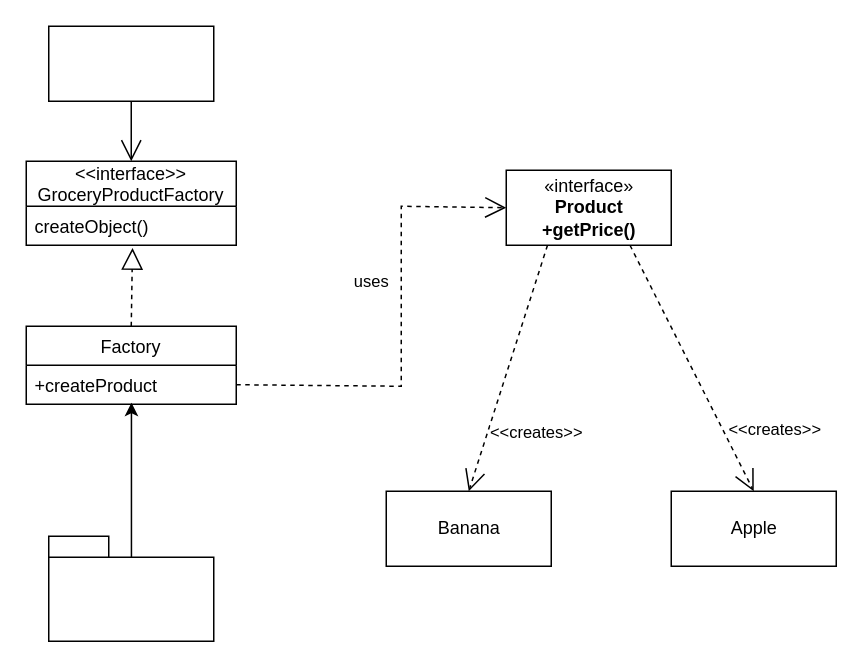
Some shapes in this 863 by 668 pixel diagram are drawn without their labels. The shapes that lost their labels are listed below. From the top down, each one's centre as x and y in pixels, then its label:
At point 130,63: "Client".
At point 130,588: "Price Database".
